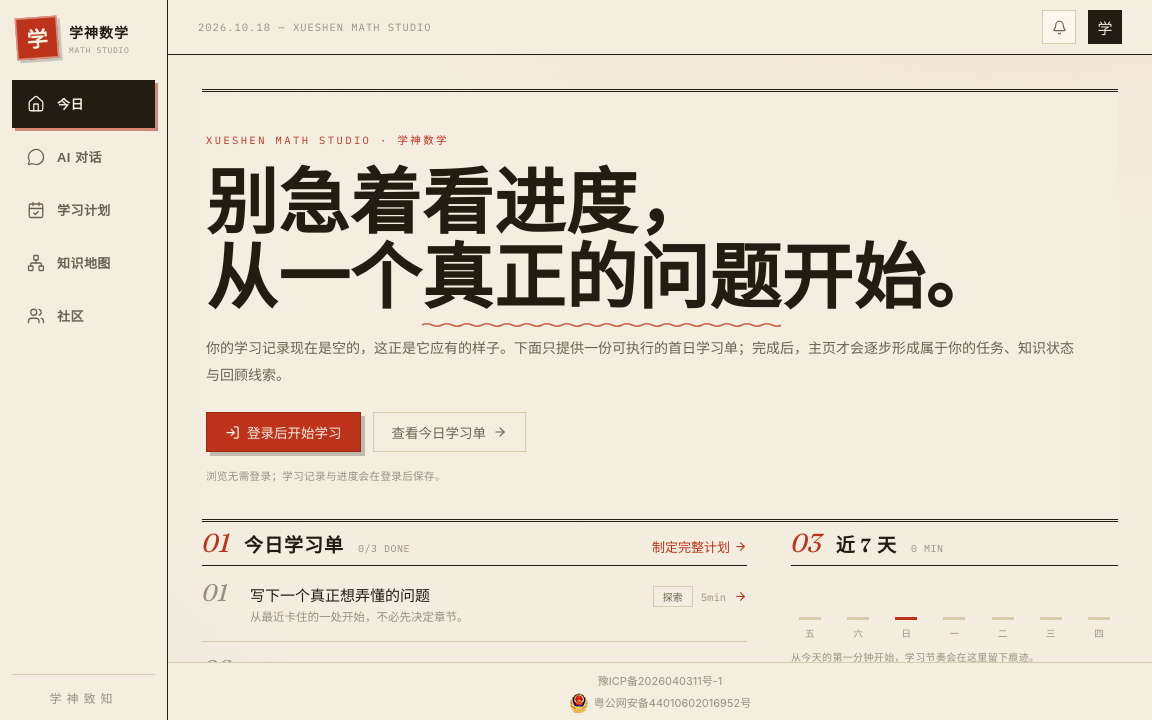
Scenario: App 通知面板（§6.5） › 点击社区通知切换到社区页并打开详情（target 清空）
What coordinates should you click on to do the following:
click the button named "通知"
I would click on:
 (1059, 27)
Its box is [1042,10,1076,44].
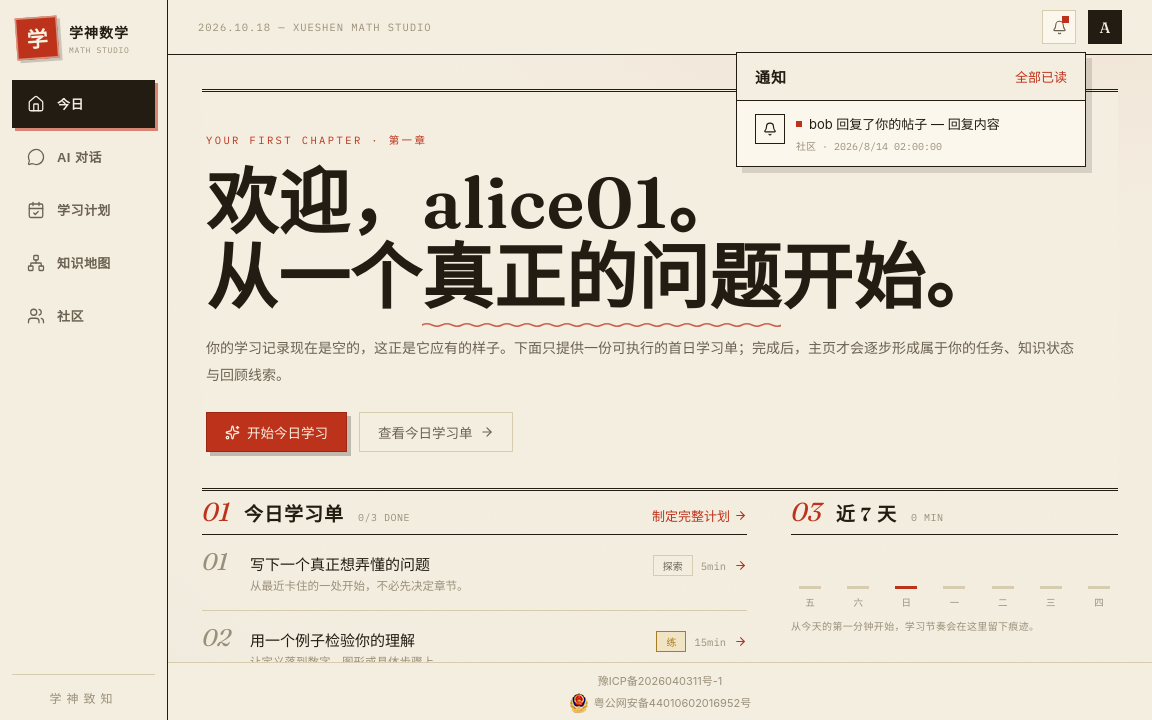
Now the text "bob 回复了你的帖子 — 回复内容" is shown, box [796,114,1000,134]
What coordinates should you click on to do the following:
click the element with class "notif-item"
I would click on:
 (877, 134)
Its box is [755,114,1000,153].
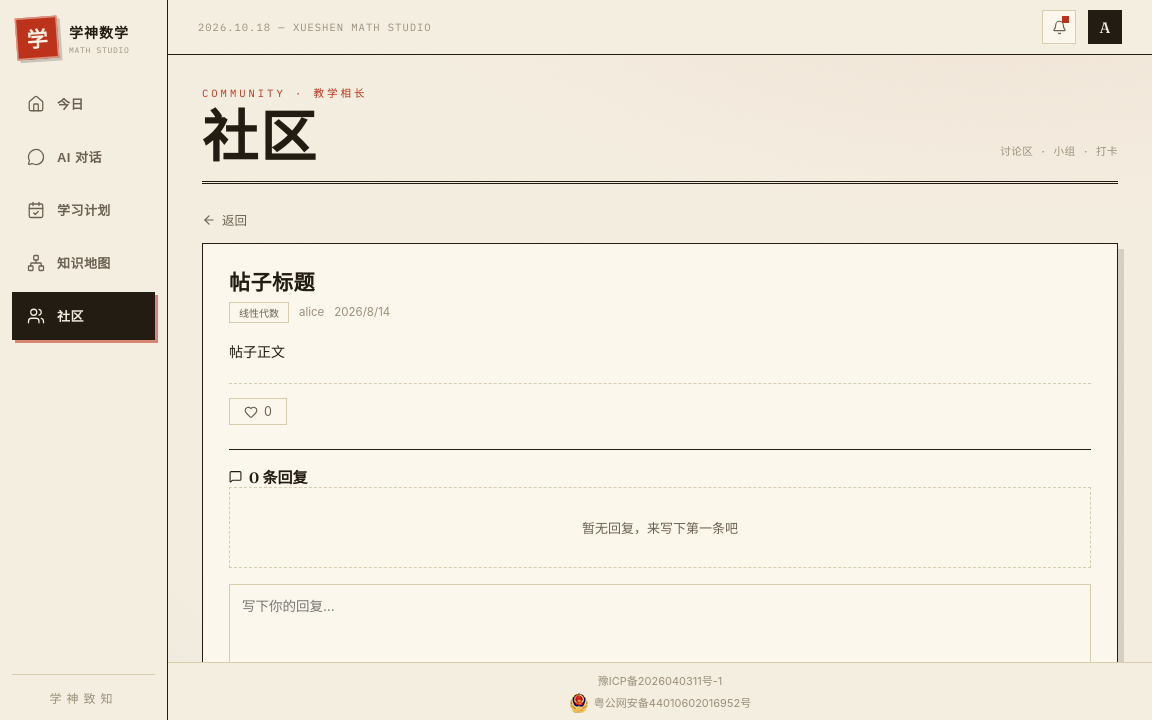
Now the text "帖子正文" is shown, box [229,342,285,360]
